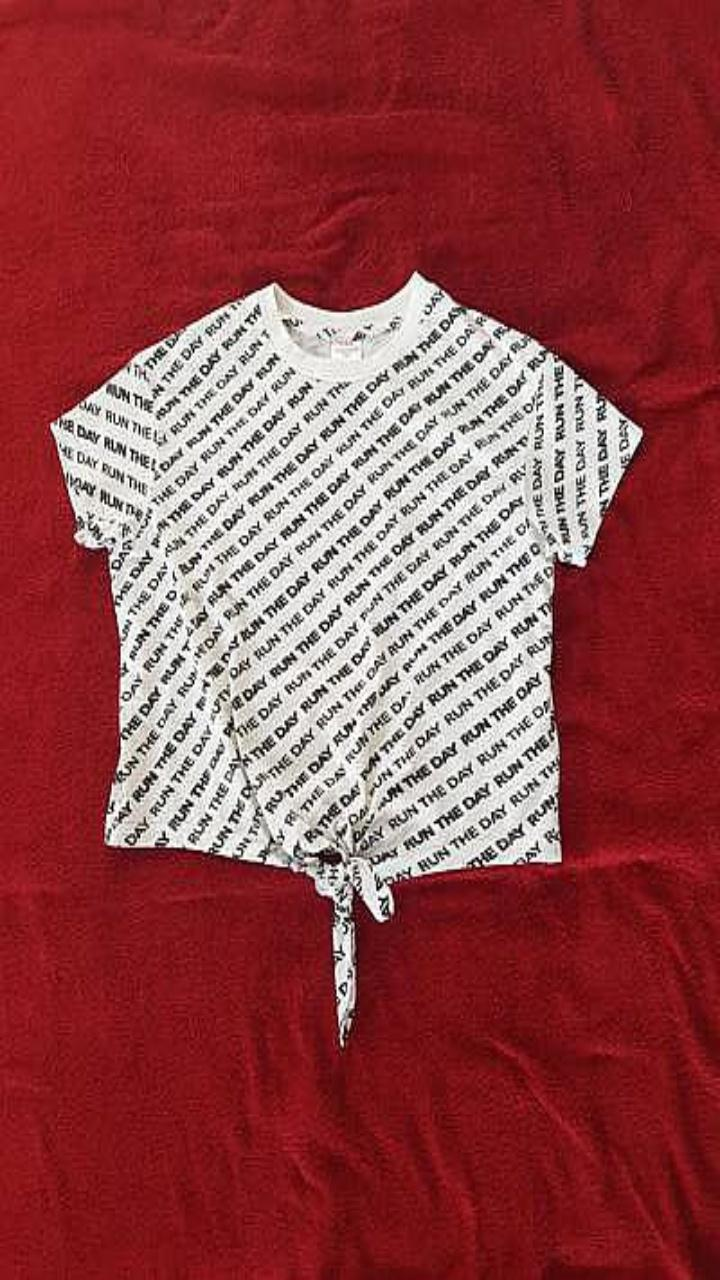T-Shirt: (50, 271, 641, 1044)
